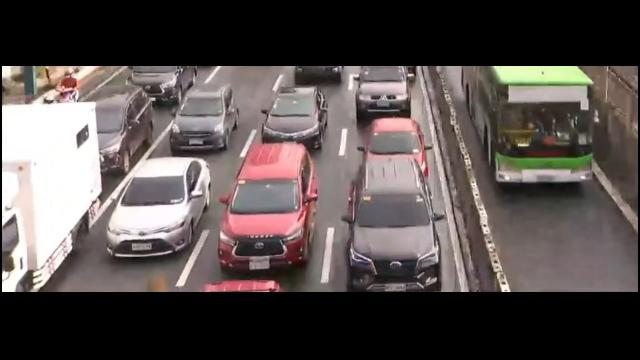bus: (450, 62, 606, 197)
car: (212, 142, 321, 268), (343, 155, 446, 287), (106, 157, 211, 264), (82, 84, 162, 171), (168, 85, 243, 154), (360, 115, 433, 177), (261, 82, 330, 147), (124, 62, 203, 108), (353, 64, 415, 118)
motorcycle: (55, 68, 80, 106)
truck: (0, 102, 108, 299)
